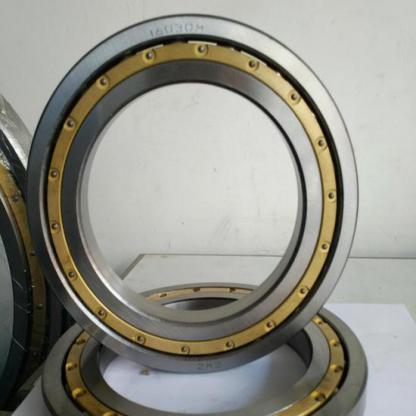FOD: (20, 9, 366, 379), (35, 280, 371, 416)
